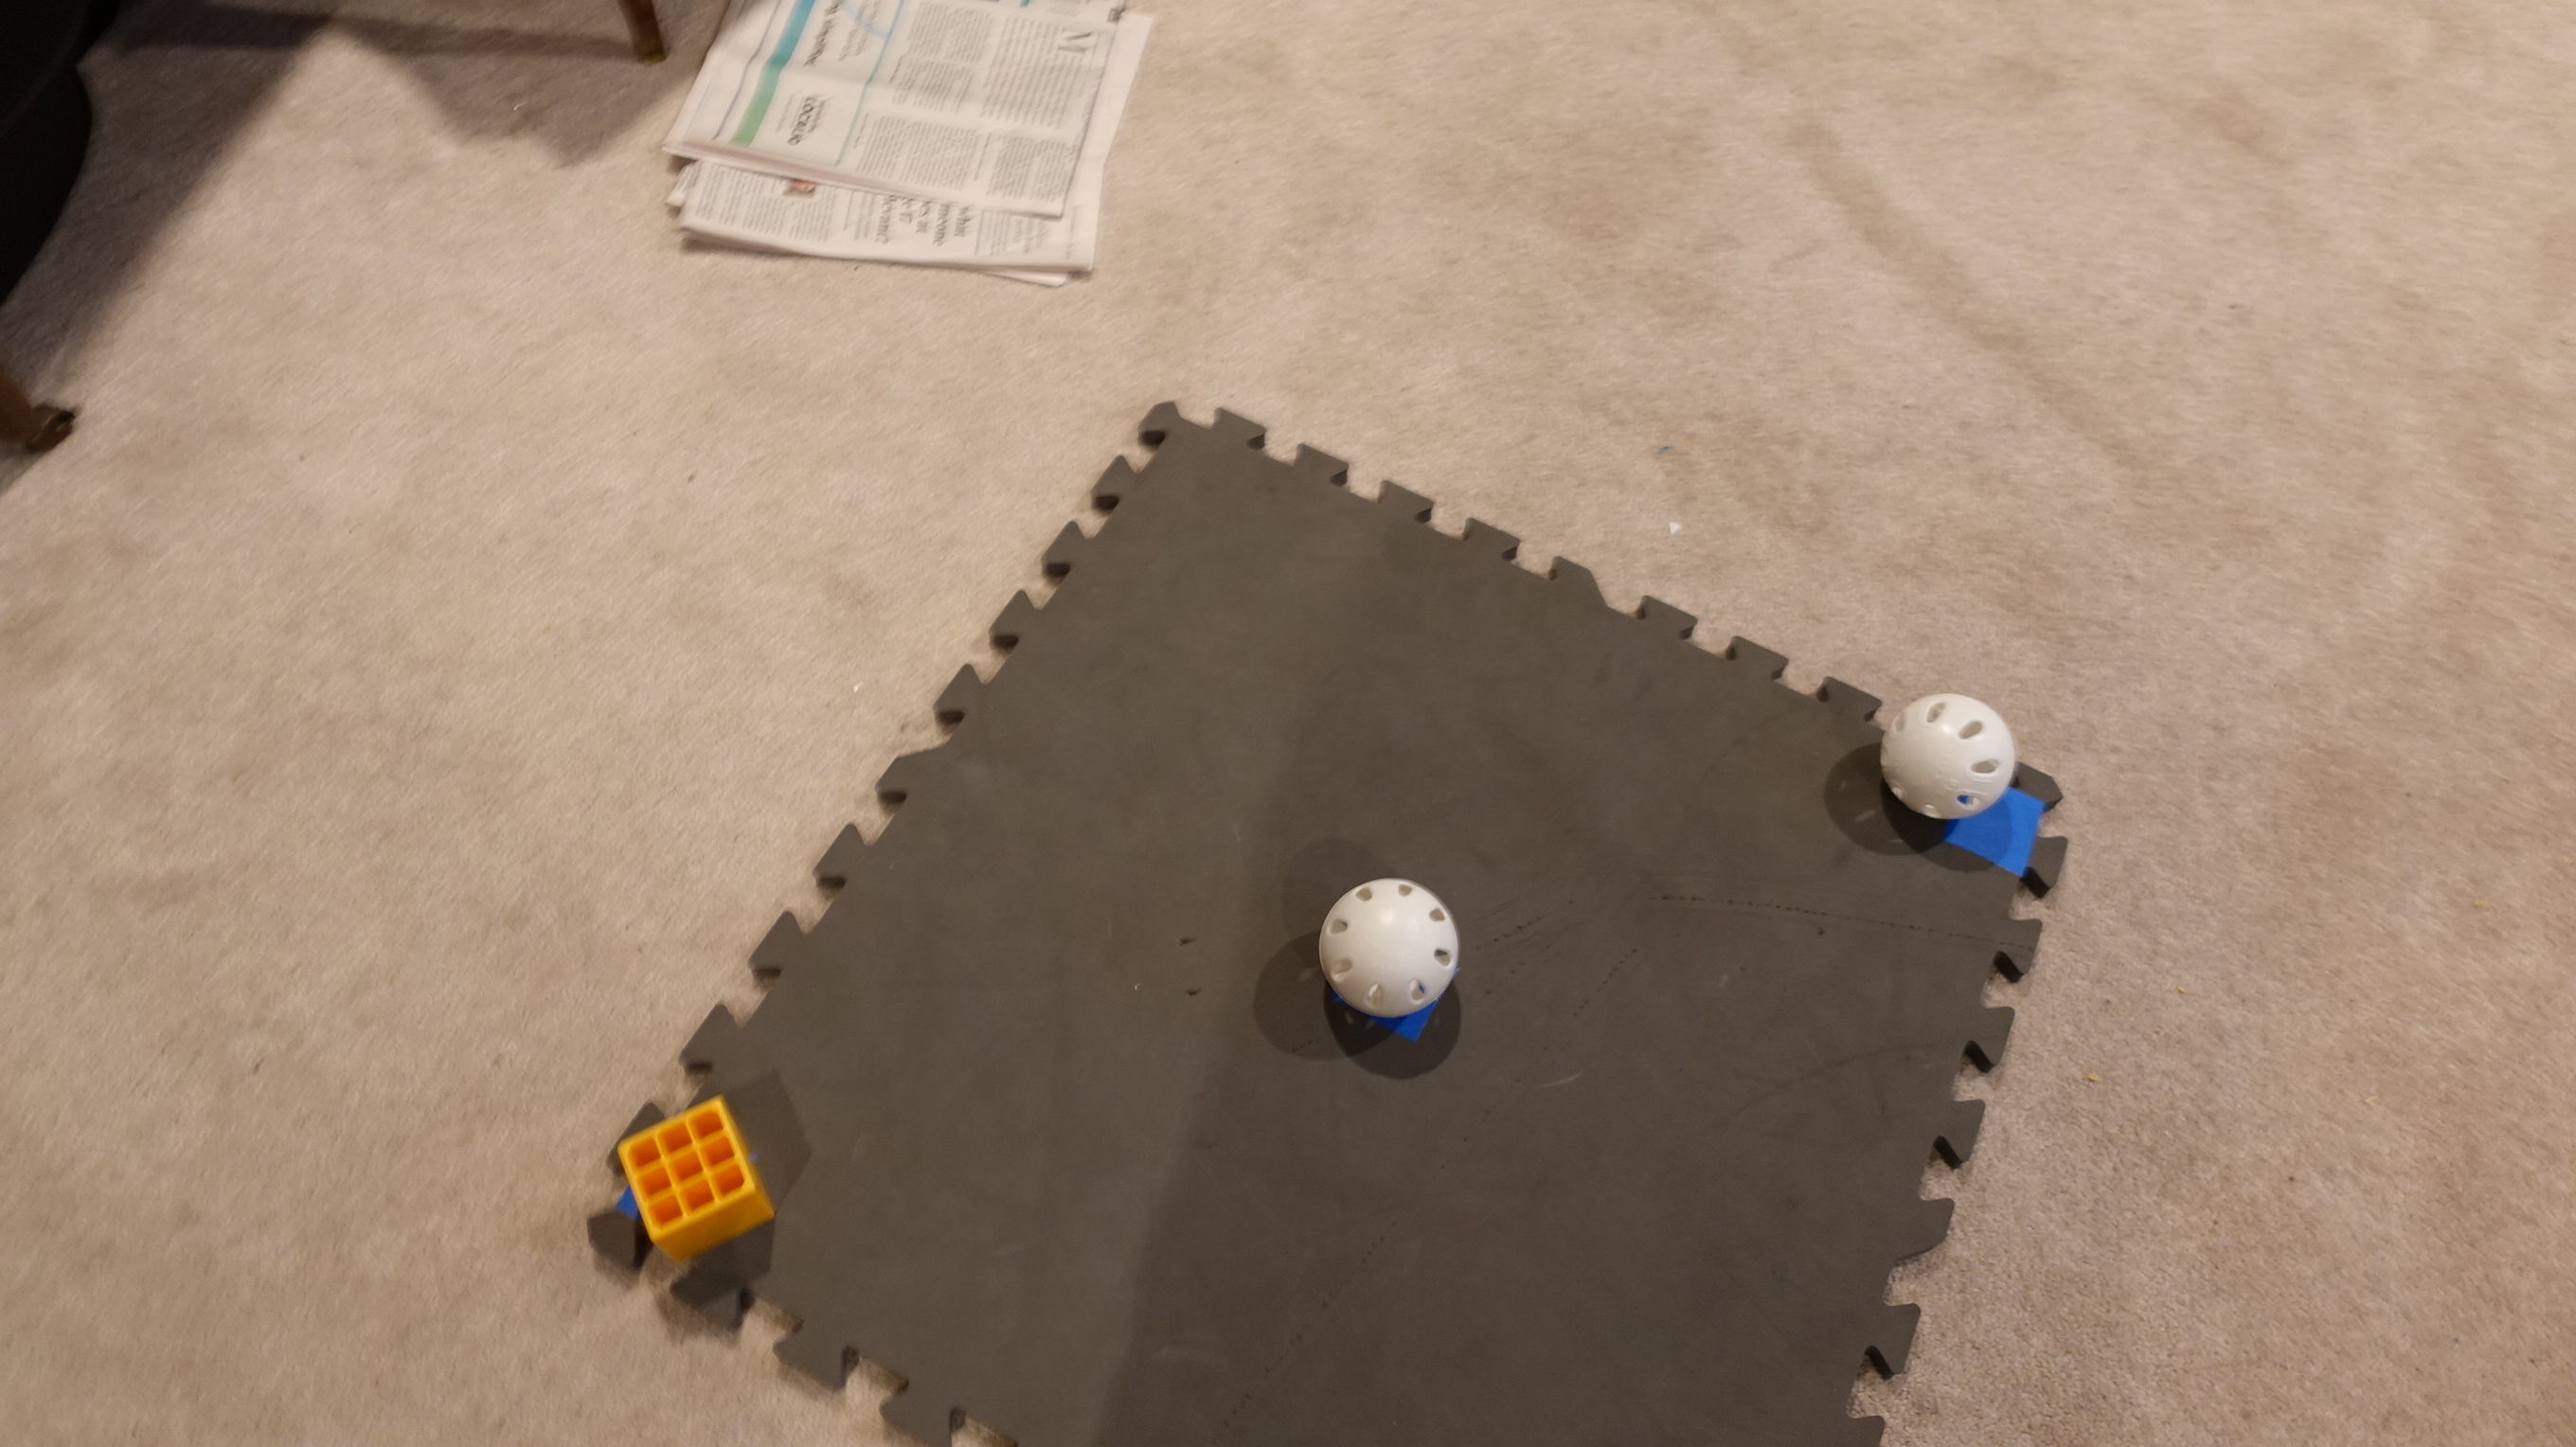gold: (614, 1076, 773, 1277)
silver: (1307, 865, 1468, 1037), (1870, 674, 2029, 846)
